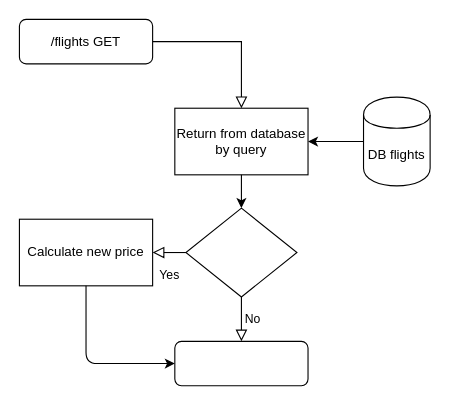
The diagram is 450 pixels wide and 405 high, and some of its shapes have lost their labels. Each missing label, with the centre of its shape:
"Return 200" goes at point (241, 363).
"User is logged" goes at point (241, 252).
